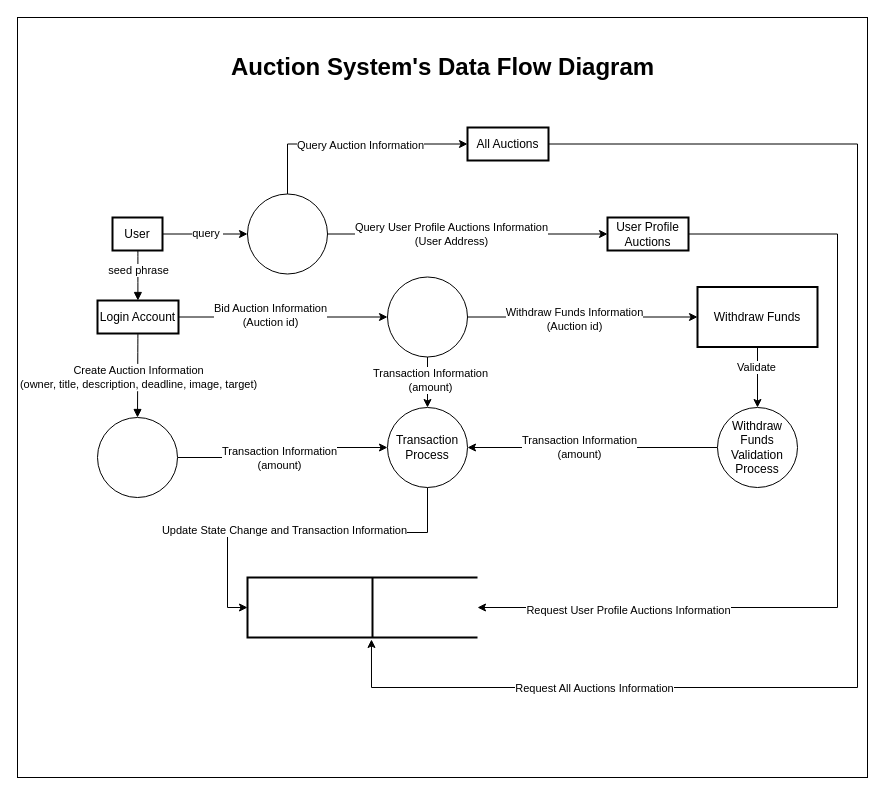
This 885x795 diagram has some shape labels left out. Here are the shapes that lost their labels. From the top down, the centre of each, then its label:
pixel 287 233: Query Process
pixel 427 316: Bid Auction Process
pixel 137 457: Create Auction Process
pixel 362 607: Blockchain Database
